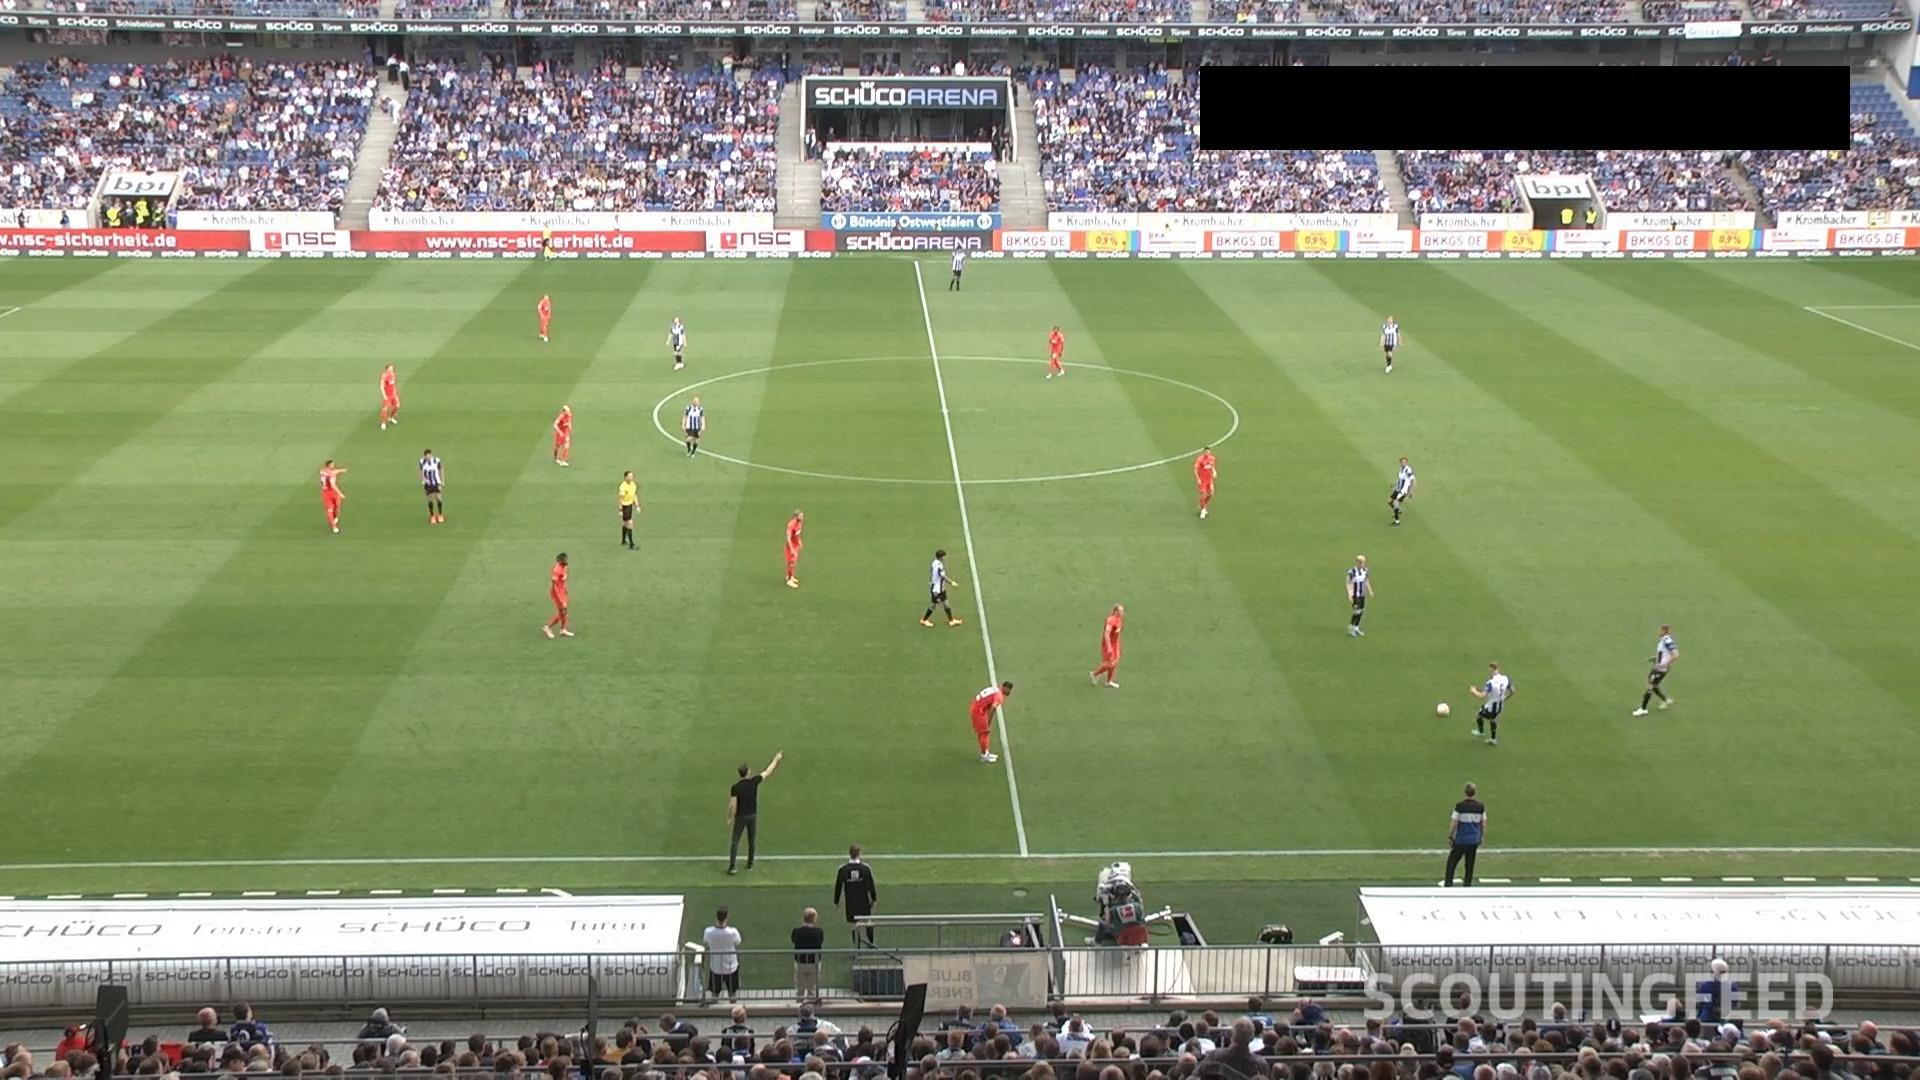ball: (1436, 702, 1451, 717)
